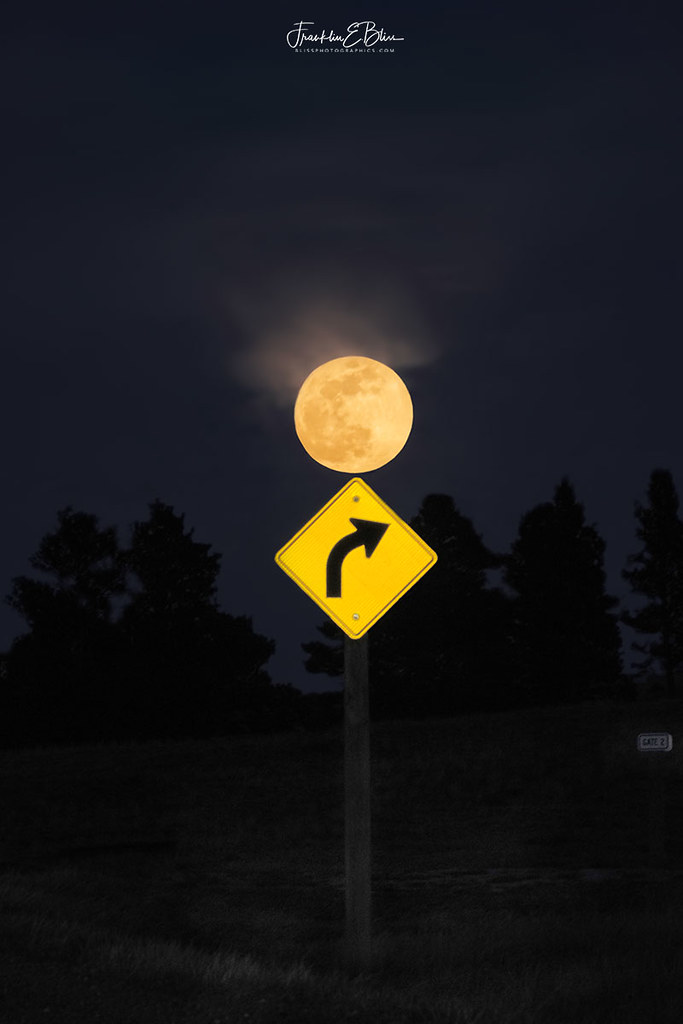right turn: (274, 479, 438, 641)
